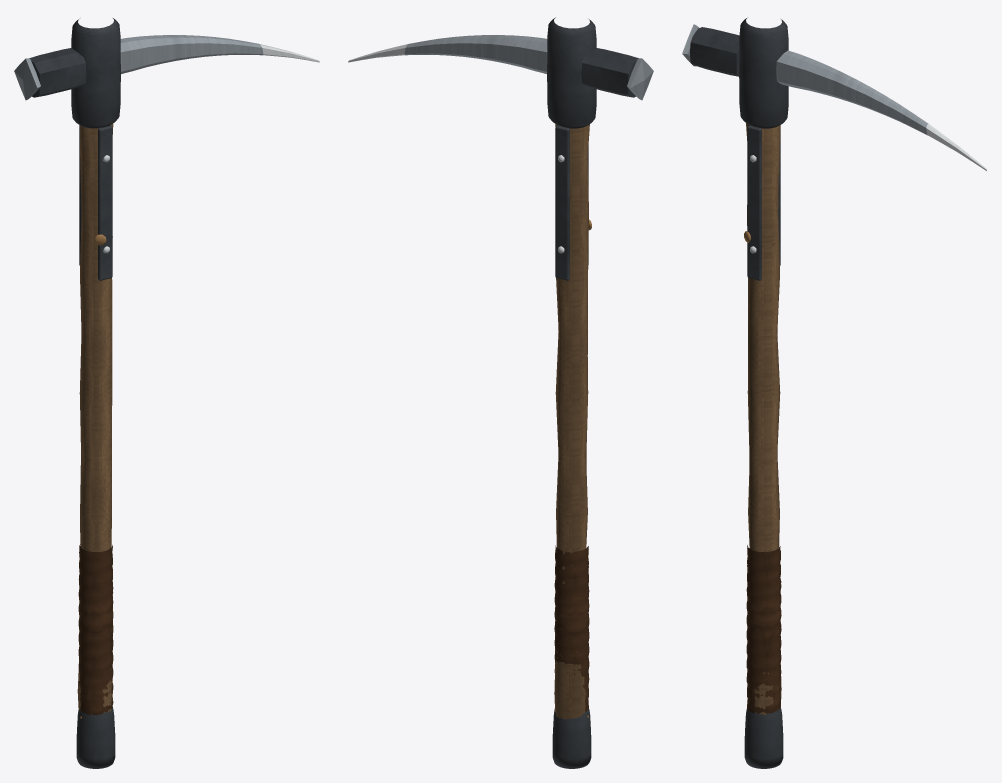
File: military-pick.lod1.glb
3 renders of one model, left to right at view 1: azimuth 30°, elevation 25°; view 2: azimuth 150°, elevation 25°; view 3: azimuth 330°, elevation 25°, orthographic.
Parts seen in each view (by area): view 1: wood / oiled hardwood, darksteel / oil-blackened fittings, leather / oiled leather wrap, steel / forged blade steel; view 2: wood / oiled hardwood, darksteel / oil-blackened fittings, leather / oiled leather wrap, steel / forged blade steel; view 3: wood / oiled hardwood, darksteel / oil-blackened fittings, leather / oiled leather wrap, steel / forged blade steel, edge / honed bright bevel.
Boxes of the visible parts, x1=… form: wood / oiled hardwood: x1=77, y1=123, x2=113, y2=712; darksteel / oil-blackened fittings: x1=29, y1=18, x2=120, y2=768; leather / oiled leather wrap: x1=78, y1=544, x2=113, y2=715; steel / forged blade steel: x1=14, y1=35, x2=263, y2=100; wood / oiled hardwood: x1=554, y1=124, x2=589, y2=719; darksteel / oil-blackened fittings: x1=547, y1=17, x2=638, y2=768; leather / oiled leather wrap: x1=554, y1=545, x2=589, y2=711; steel / forged blade steel: x1=404, y1=35, x2=653, y2=100; wood / oiled hardwood: x1=746, y1=123, x2=781, y2=714; darksteel / oil-blackened fittings: x1=690, y1=18, x2=788, y2=768; leather / oiled leather wrap: x1=746, y1=545, x2=781, y2=713; steel / forged blade steel: x1=682, y1=24, x2=928, y2=135; edge / honed bright bevel: x1=750, y1=124, x2=986, y2=253.
Bounding box in the file's own units: 0.3472 × 0.829 × 0.0492.
7 materials, 5 textured.
